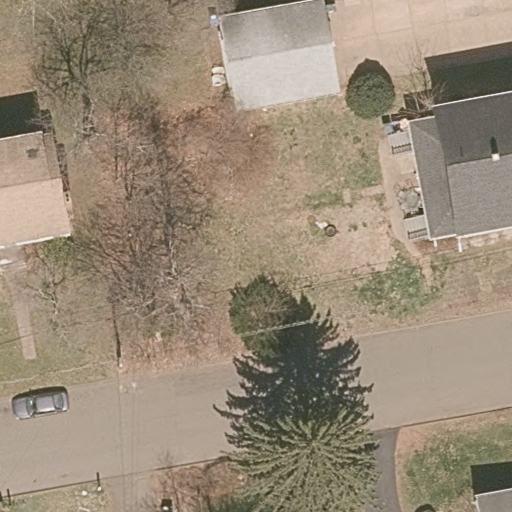DT: (109, 351, 137, 368)
